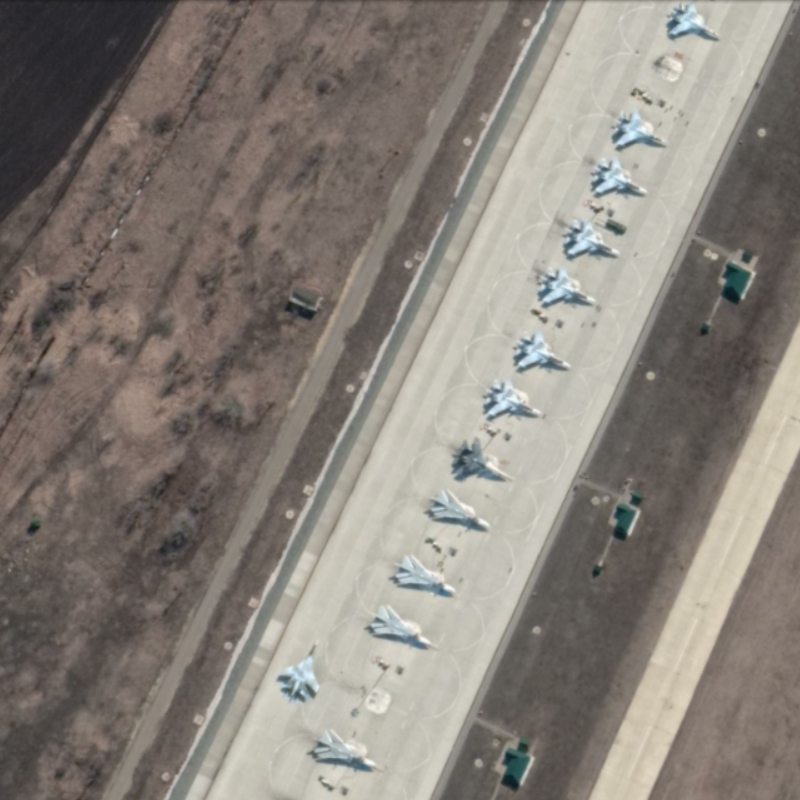A1: (276, 638, 322, 699), (610, 106, 668, 149), (667, 1, 721, 40)
A19: (451, 436, 514, 486), (538, 264, 599, 312), (512, 328, 574, 373), (482, 375, 545, 419), (562, 217, 622, 260), (591, 155, 649, 199)
A20: (369, 603, 437, 652), (311, 726, 381, 773), (394, 553, 460, 598), (428, 487, 492, 532)
